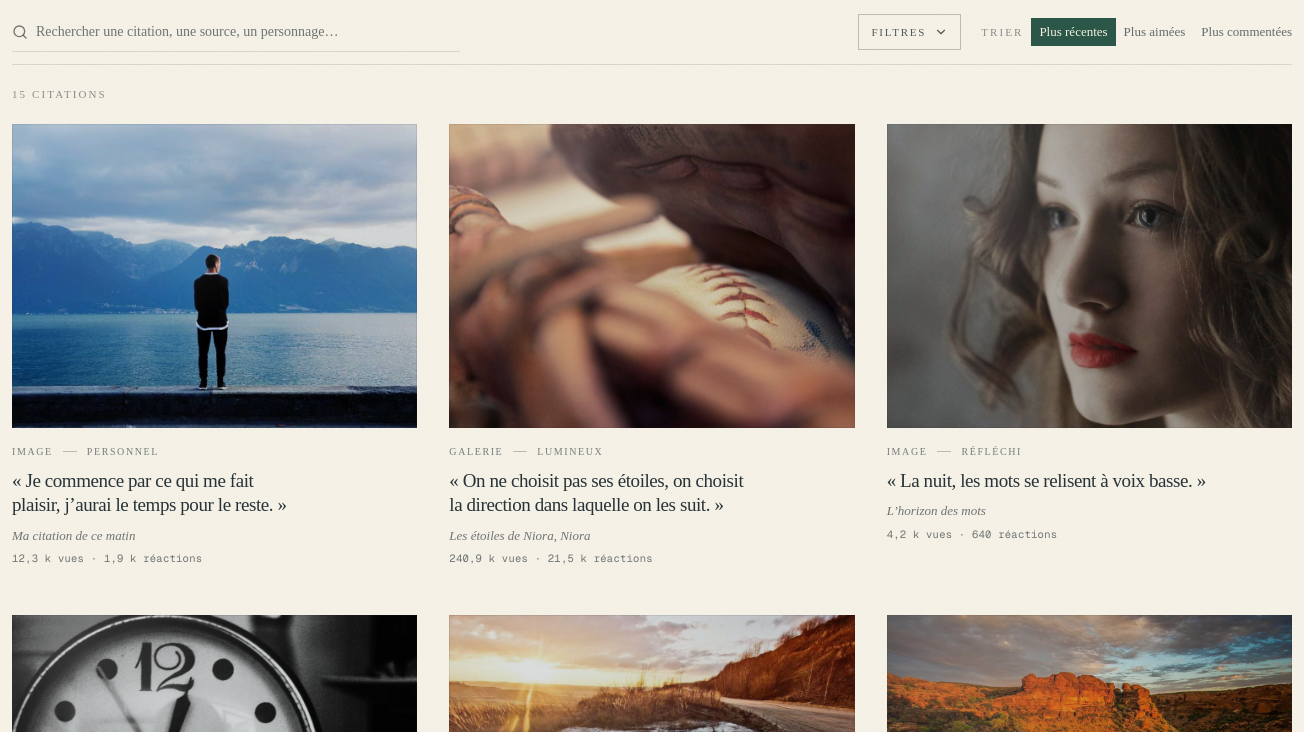
it: CatalogueBrowser › filtre par recherche textuelle
Step 1. Type "minuit" into the field labelled "Rechercher" → (236, 32), box [12, 12, 460, 52]
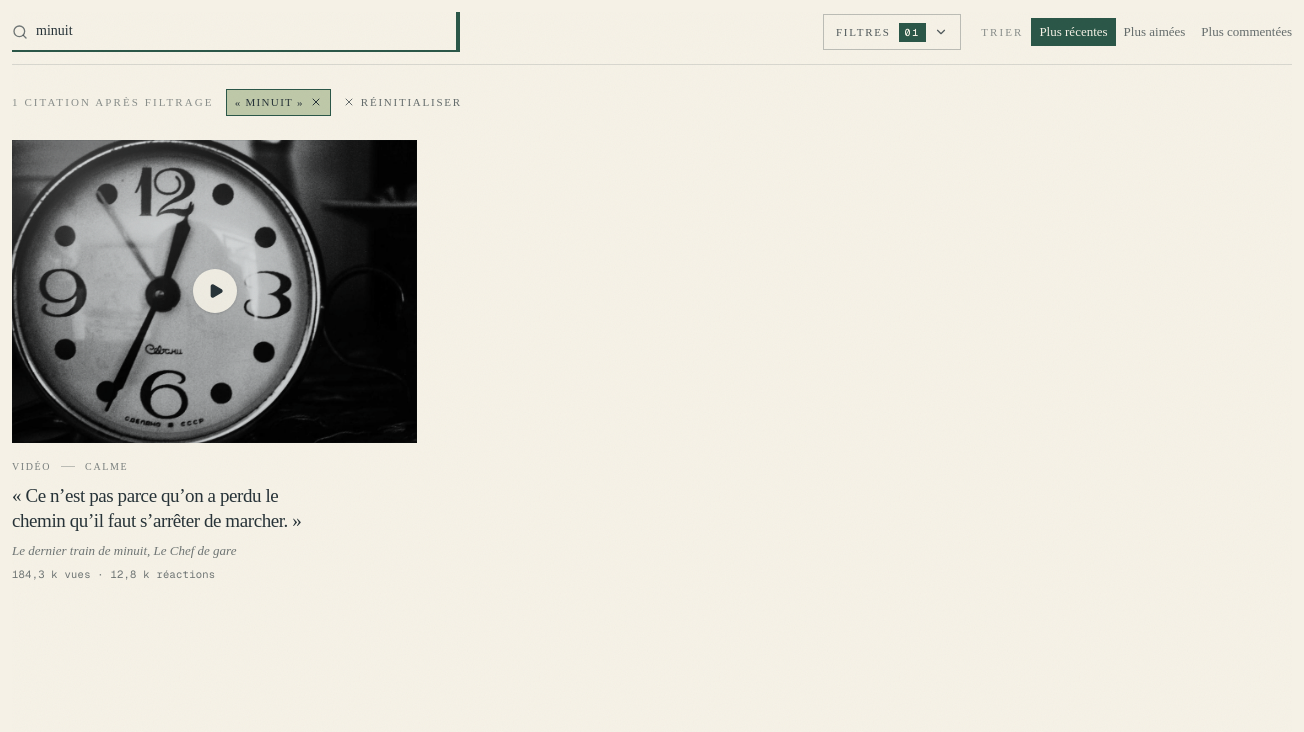
Check: the text "1 citation après filtrage" is shown, box [12, 97, 214, 108]
